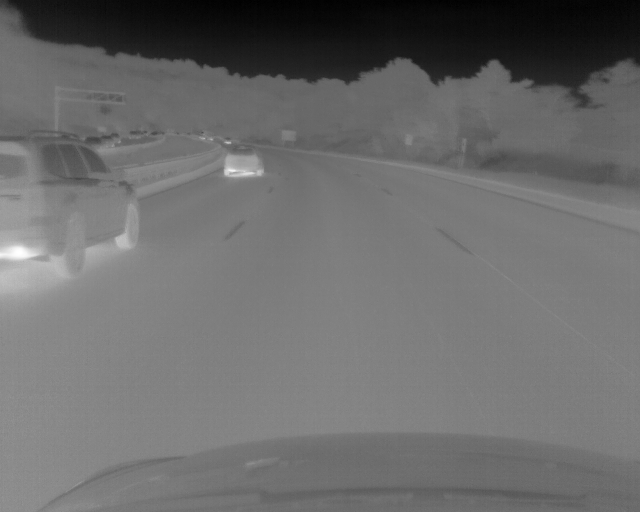car: (1, 132, 143, 278), (224, 144, 264, 178), (84, 136, 102, 150), (103, 135, 114, 149), (111, 132, 121, 144), (224, 139, 231, 144)
